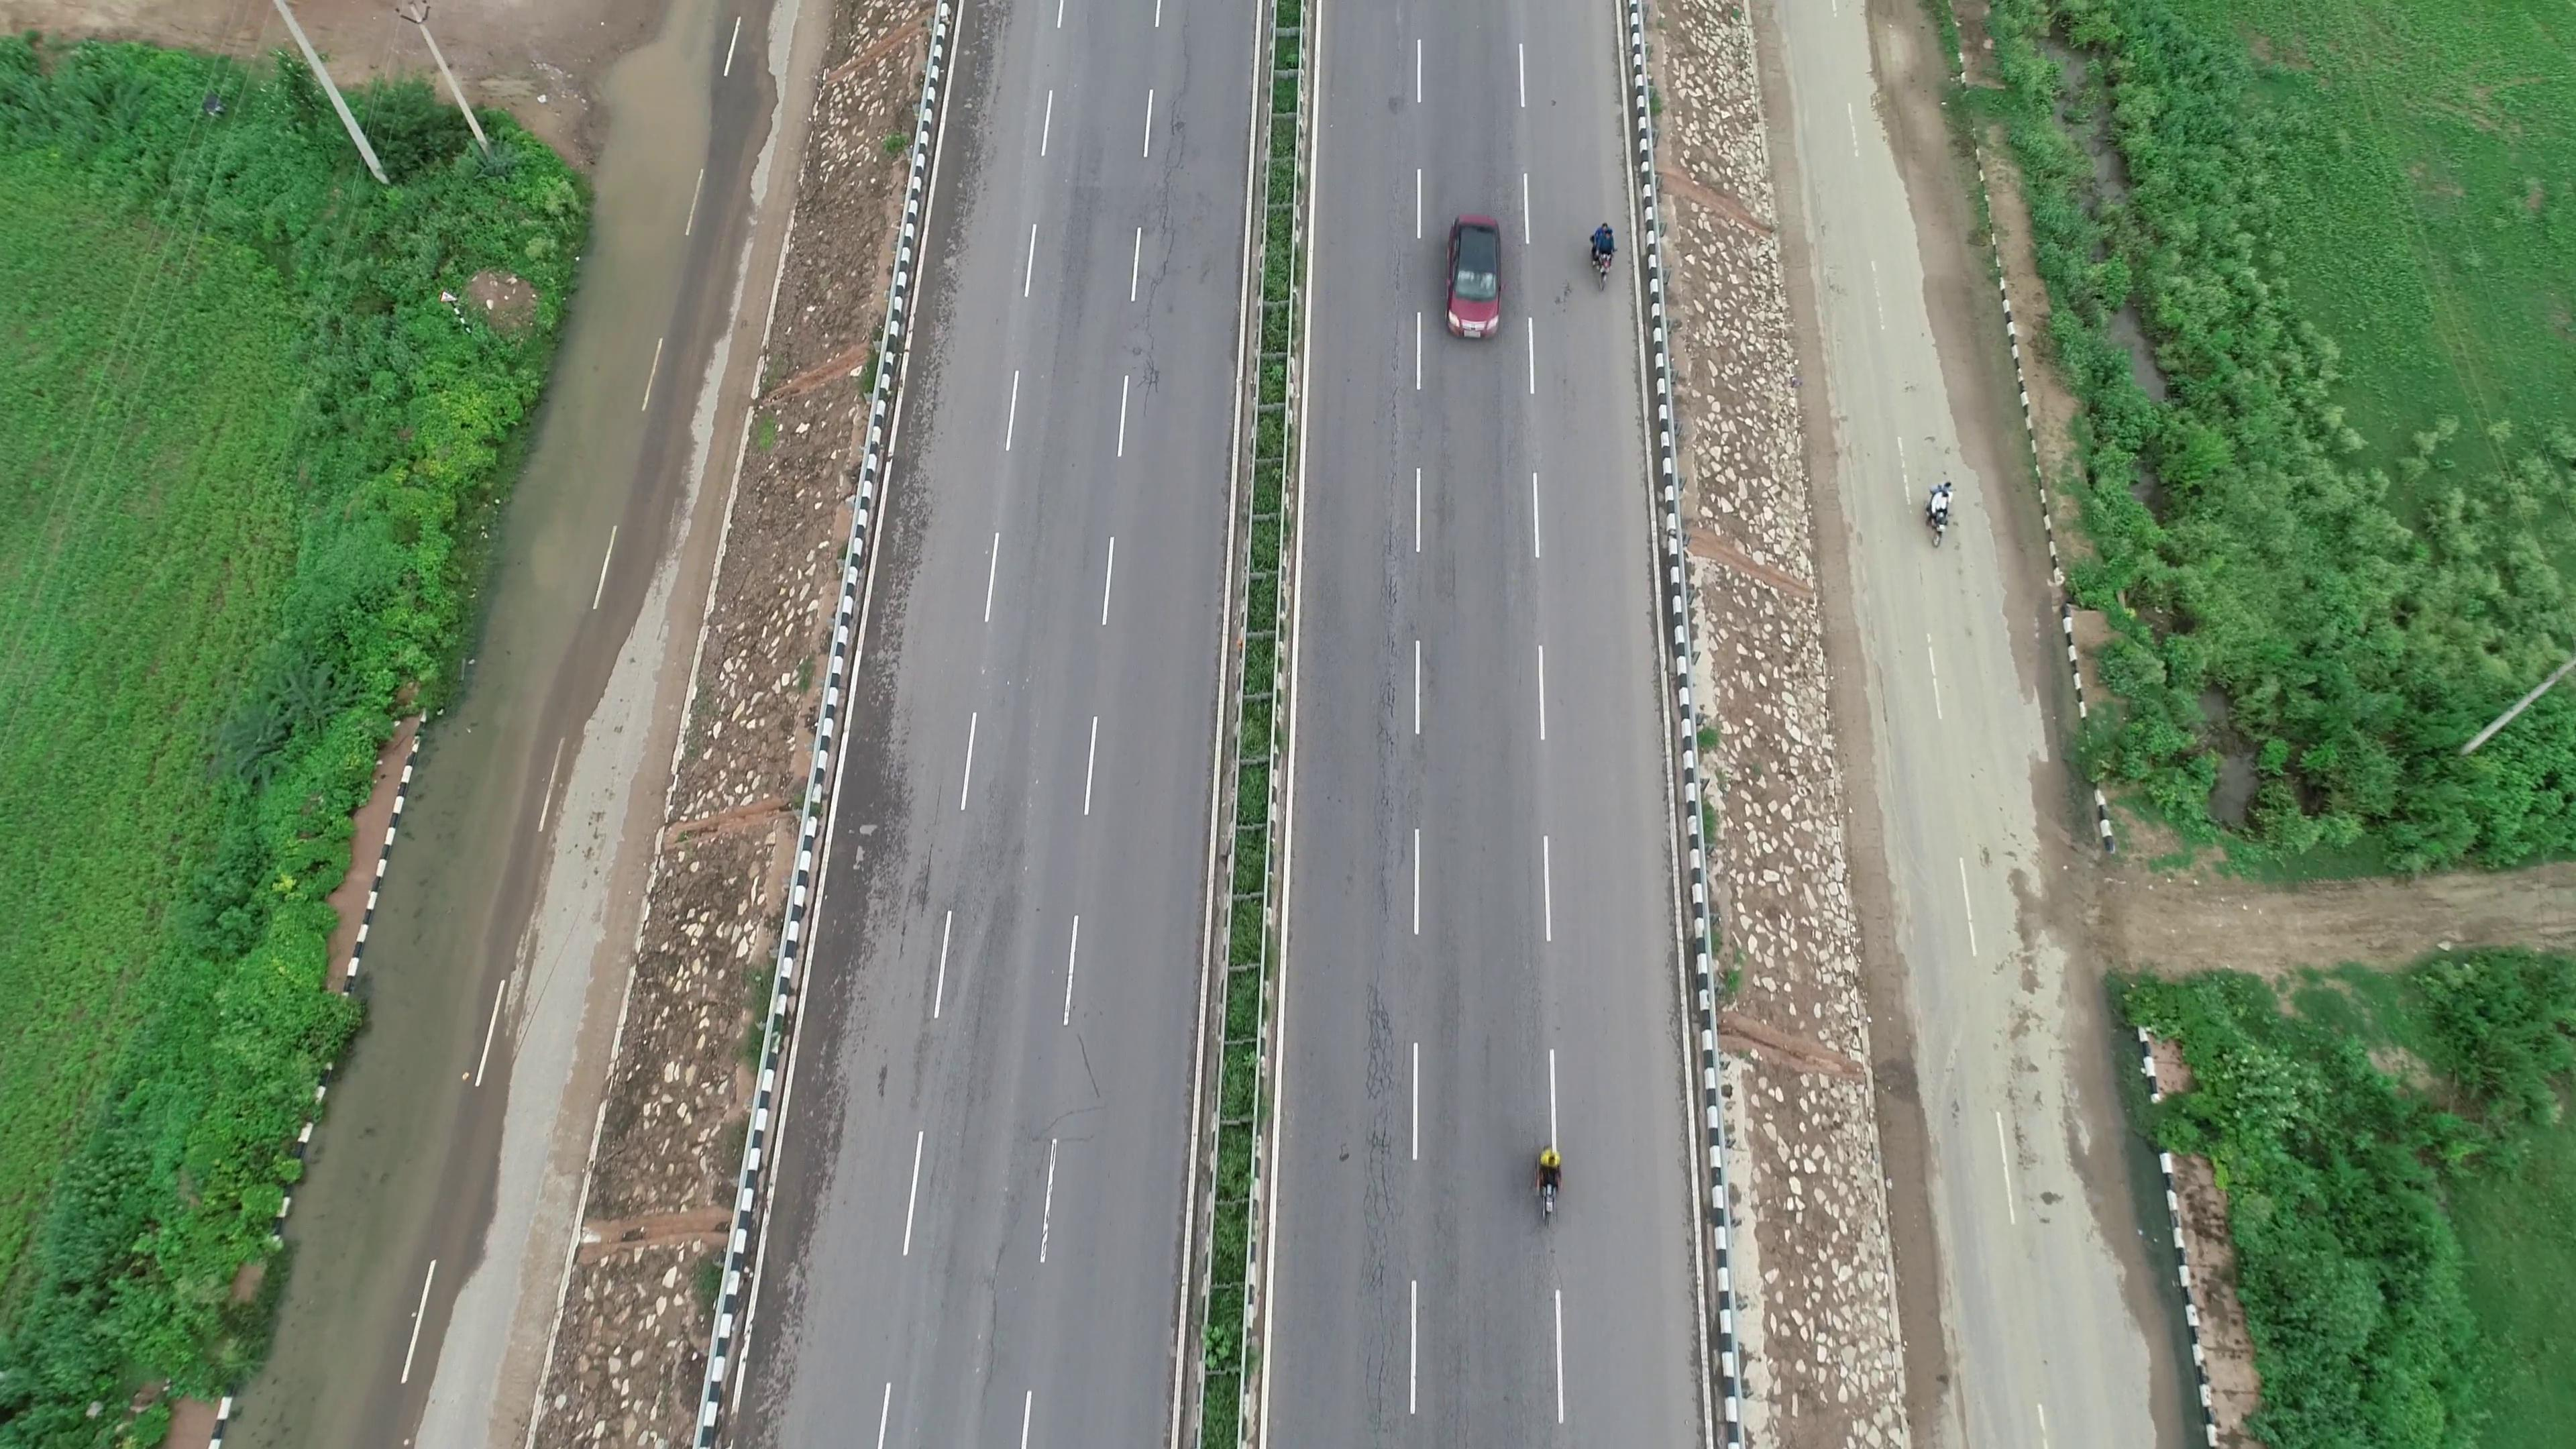Longitudinal_cracks: (1355, 333, 1415, 904), (1122, 12, 1203, 403), (1343, 987, 1407, 1421)
